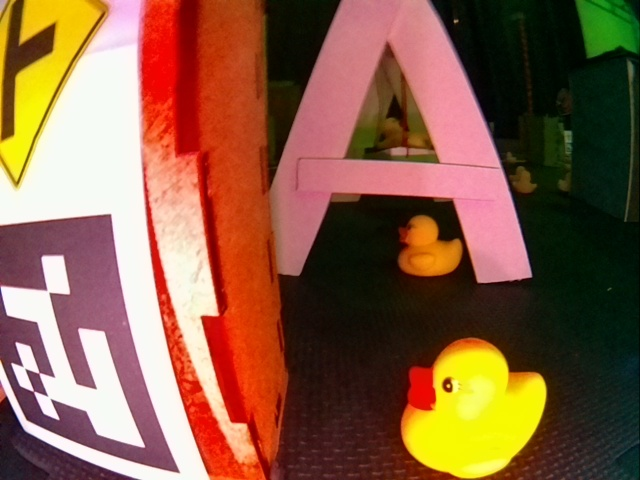Duckie: (401, 337, 545, 477), (398, 217, 462, 277)
Intersection sign: (2, 1, 112, 185)
QR code: (0, 211, 182, 473)
